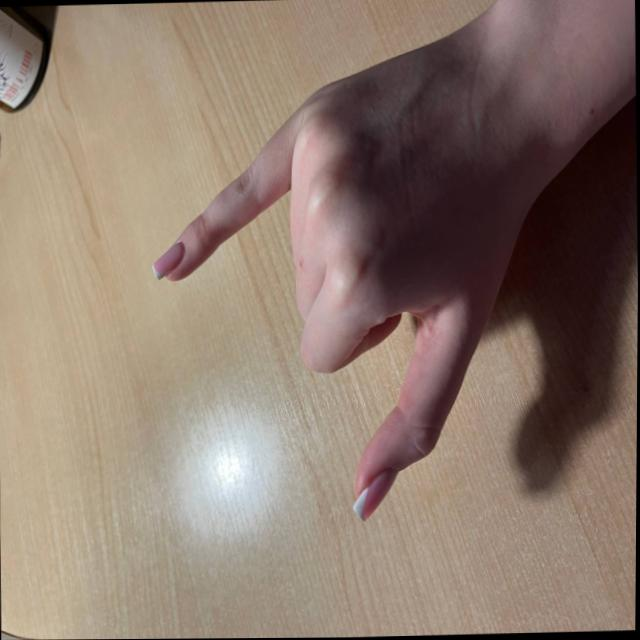u: (143, 14, 519, 531)
